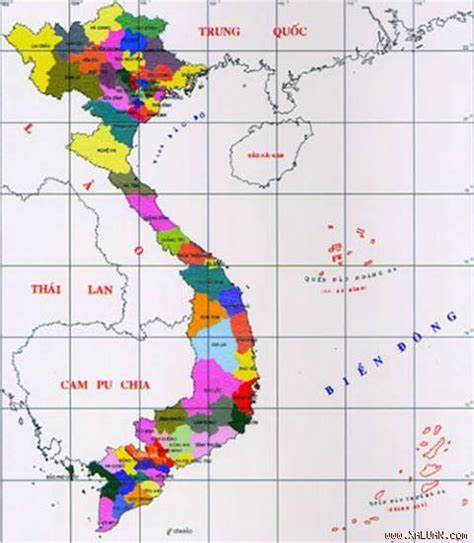Island: (329, 421, 474, 530), (304, 217, 397, 301)
